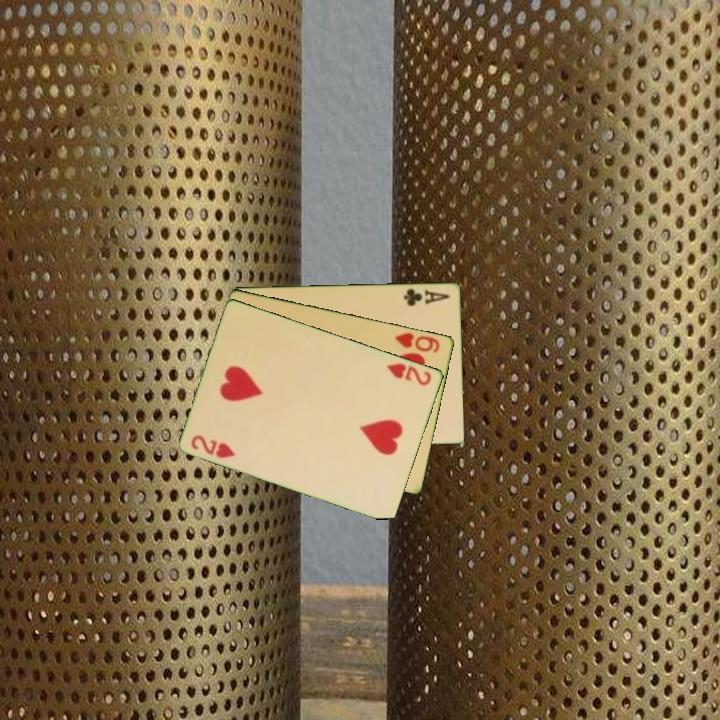2h: (188, 431, 238, 461), (383, 359, 434, 388)
6h: (391, 328, 443, 356)
Ac: (401, 285, 453, 309)
